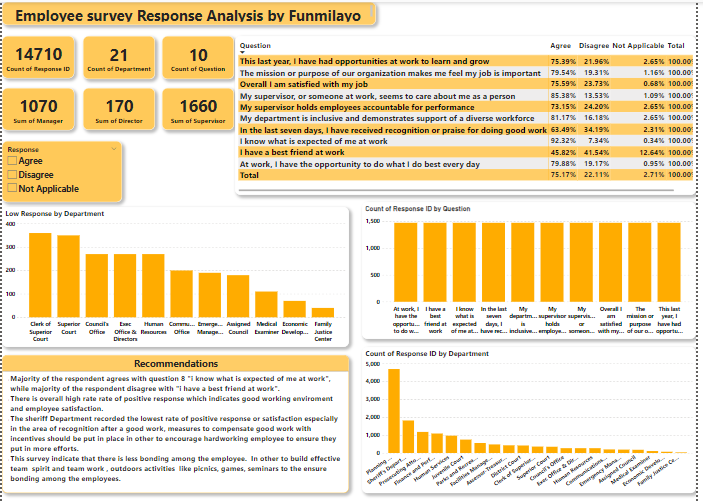

The dashboard page shown, as its layout file describes it:
{"tool":"powerbi","page":{"name":"Page 1","canvas":[2500,1800],"ordinal":0},"visuals":[{"type":"card","fields":{"Values":["Count(Employee Survey - HR Survey Reponses - Copy.Response ID)"]},"box":[0,124,260,152],"z":0},{"type":"card","fields":{"Values":["Count(Employee Survey - HR Survey Reponses - Copy.Department)"]},"box":[291.6,122.4,259.2,154.8],"z":1000},{"type":"card","fields":{"Values":["Count(Employee Survey - HR Survey Reponses - Copy.Question)"]},"box":[576,122.4,259.2,154.8],"z":2000},{"type":"columnChart","fields":{"Y":["CountNonNull(Employee Survey - HR Survey Reponses - Copy.Response ID)"],"Category":["Employee Survey - HR Survey Reponses - Copy.Question"]},"box":[1296,720,1202.4,493.2],"z":3000},{"type":"slicer","fields":{"Values":["Employee Survey - HR Survey Reponses - Copy.Response Text (groups)"]},"box":[0,500.4,432,219.6],"z":4000},{"type":"columnChart","fields":{"Category":["Employee Survey - HR Survey Reponses - Copy.Department"],"Y":["CountNonNull(Employee Survey - HR Survey Reponses - Copy.Response ID)"]},"box":[1296,1242,1202.4,525.6],"z":5000},{"type":"card","fields":{"Values":["Sum(Employee Survey - HR Survey Reponses - Copy.Director)"]},"box":[291.6,309.6,259.2,151.2],"z":6000},{"type":"card","fields":{"Values":["Sum(Employee Survey - HR Survey Reponses - Copy.Manager)"]},"box":[0,308,260,152],"z":7000},{"type":"card","fields":{"Values":["Sum(Employee Survey - HR Survey Reponses - Copy.Supervisor)"]},"box":[576,309.6,259.2,151.2],"z":8000},{"type":"columnChart","title":"Low Response by Department","fields":{"Category":["Employee Survey - HR Survey Reponses - Copy.Department"],"Y":["CountNonNull(Employee Survey - HR Survey Reponses - Copy.Response ID)"]},"box":[0,738,1249.2,504],"z":9000},{"type":"textbox","box":[0,0,1346.4,82.8],"z":10000},{"type":"pivotTable","fields":{"Rows":["Employee Survey - HR Survey Reponses - Copy.Question"],"Columns":["Employee Survey - HR Survey Reponses - Copy.Response Text (groups)"],"Values":["Min(Employee Survey - HR Survey Reponses - Copy.Response ID)"]},"box":[838.8,122.4,1659.6,572.4],"z":11000},{"type":"textbox","title":"Recommendations","box":[0,1270.8,1249.2,496.8],"z":12000}]}

Visuals, with their boxes in screenshot pixels (x1, y1, x2, y2), scaled from the page's 2500x1800 canvas onto the 703x502 screenshot:
card - Count(Employee Survey - HR Survey Reponses - Copy.Response ID): l=0, t=35, r=73, b=77
card - Count(Employee Survey - HR Survey Reponses - Copy.Department): l=82, t=34, r=155, b=77
card - Count(Employee Survey - HR Survey Reponses - Copy.Question): l=162, t=34, r=235, b=77
columnChart - CountNonNull(Employee Survey - HR Survey Reponses - Copy.Response ID) x Employee Survey - HR Survey Reponses - Copy.Question: l=364, t=201, r=702, b=338
slicer - Employee Survey - HR Survey Reponses - Copy.Response Text (groups): l=0, t=140, r=121, b=201
columnChart - Employee Survey - HR Survey Reponses - Copy.Department x CountNonNull(Employee Survey - HR Survey Reponses - Copy.Response ID): l=364, t=346, r=702, b=493
card - Sum(Employee Survey - HR Survey Reponses - Copy.Director): l=82, t=86, r=155, b=129
card - Sum(Employee Survey - HR Survey Reponses - Copy.Manager): l=0, t=86, r=73, b=128
card - Sum(Employee Survey - HR Survey Reponses - Copy.Supervisor): l=162, t=86, r=235, b=129
"Low Response by Department" columnChart: l=0, t=206, r=351, b=346
textbox: l=0, t=0, r=379, b=23
pivotTable - Employee Survey - HR Survey Reponses - Copy.Question x Employee Survey - HR Survey Reponses - Copy.Response Text (groups): l=236, t=34, r=702, b=194
"Recommendations" textbox: l=0, t=354, r=351, b=493
